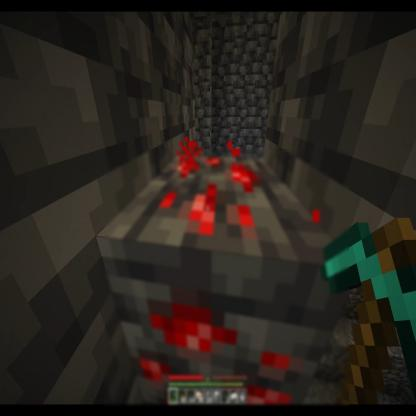redstone ore: (105, 149, 349, 416)
